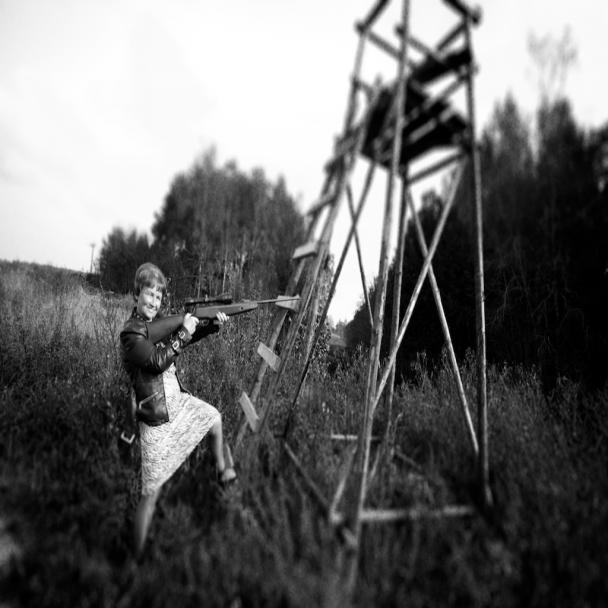Gun: (142, 286, 297, 339)
Hand: (180, 307, 202, 354), (213, 307, 232, 330)
